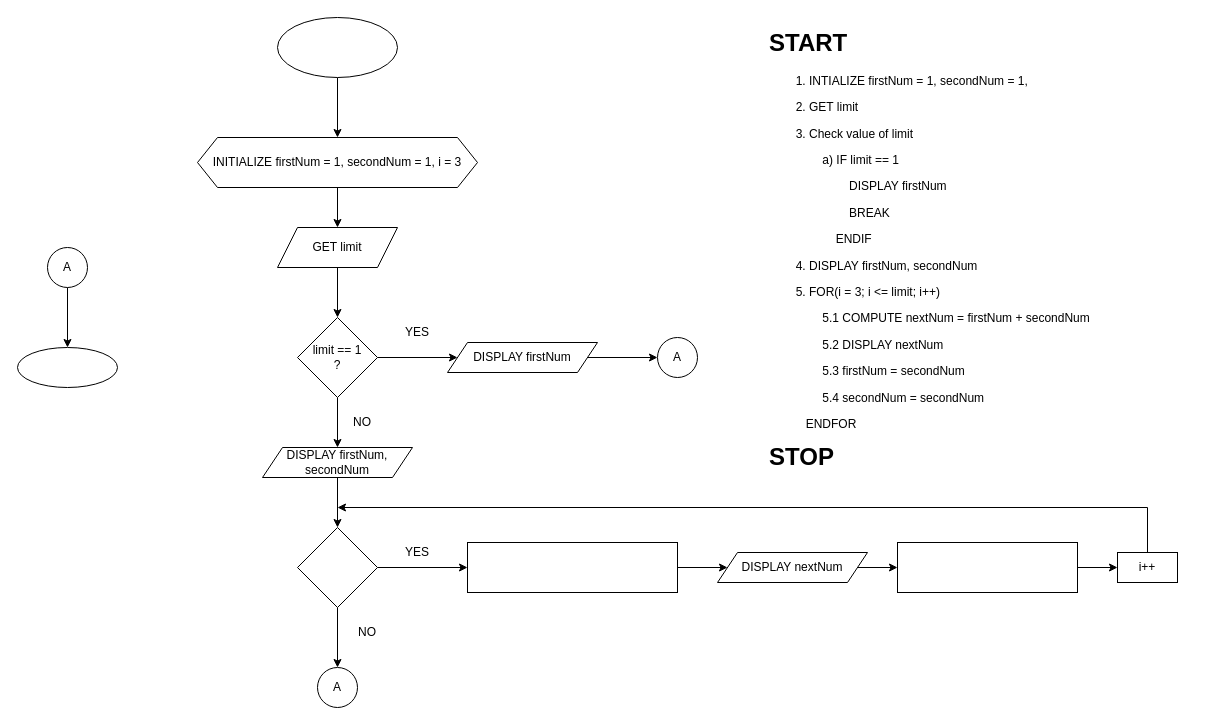
The diagram is 1205 pixels wide and 725 high, and some of its shapes have lost their labels. Each missing label, with the centre of its shape:
COMPUTE nextNum = firstNum + secondNum: the point at 572,567
firstNum = secondNum, secondNum = nextNum: the point at 987,567
i <= limit ?: the point at 337,567
START: the point at 337,47
STOP: the point at 67,367
